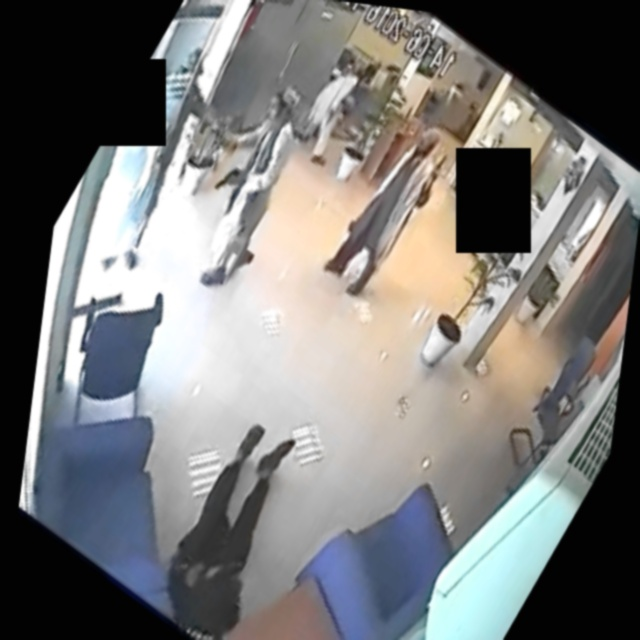gun: (214, 154, 248, 198), (432, 145, 454, 177)
